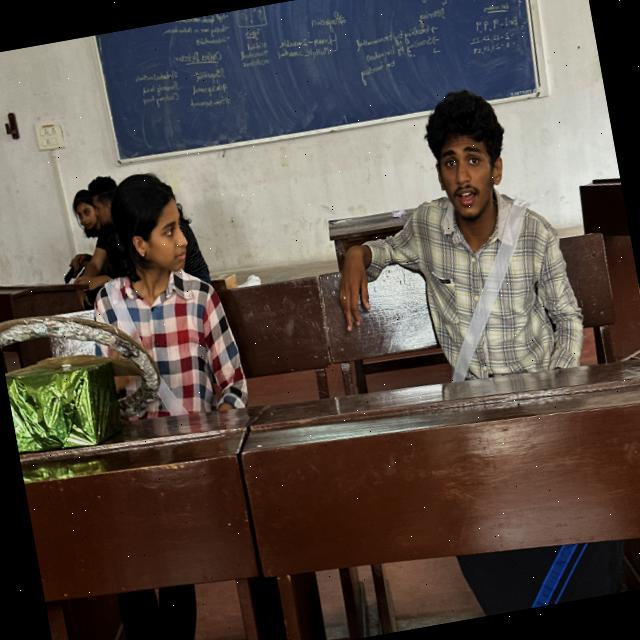seatbelt: (364, 153, 616, 439), (35, 245, 282, 500)
